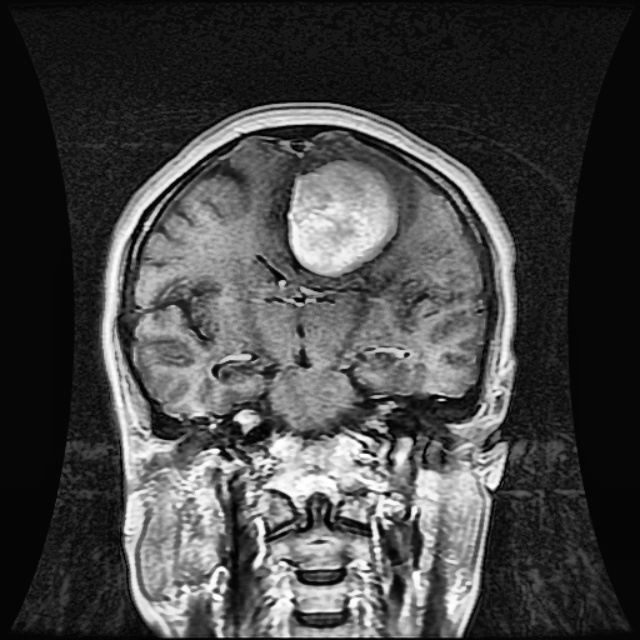Glioma: (288, 159, 395, 274)
